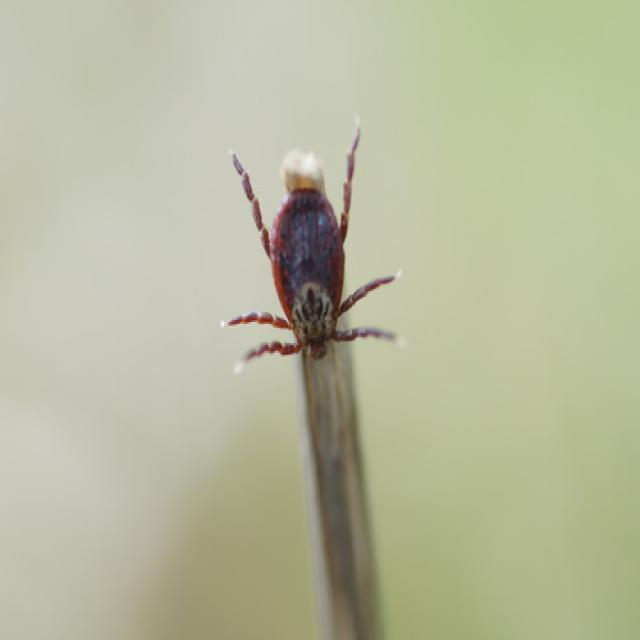Dermacentor Reticulatus-F: (224, 135, 398, 362)
